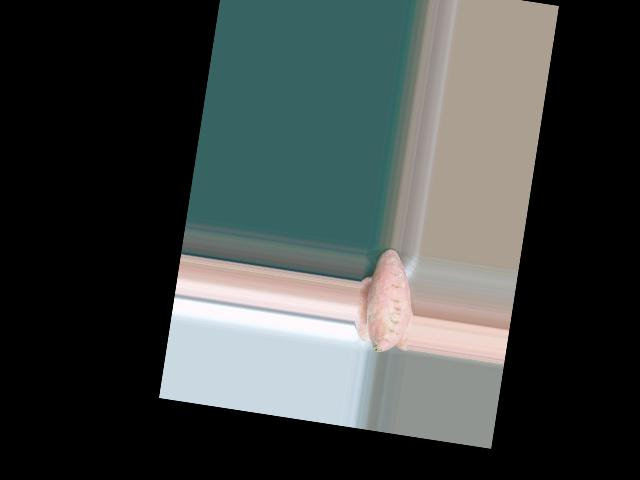sweet_potato: (364, 248, 416, 355)
